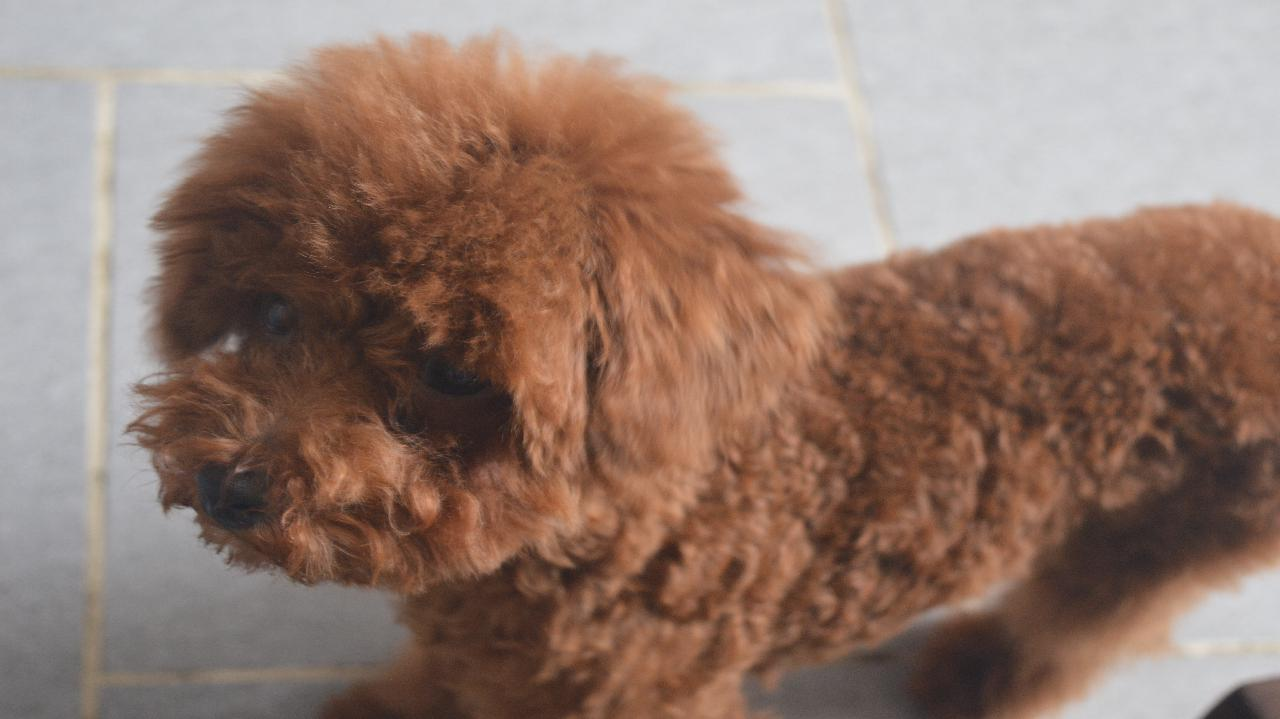coin: (140, 26, 1275, 709)
